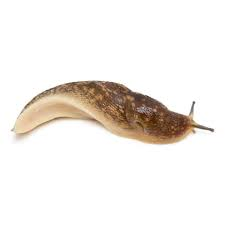slug: (6, 85, 213, 144)
